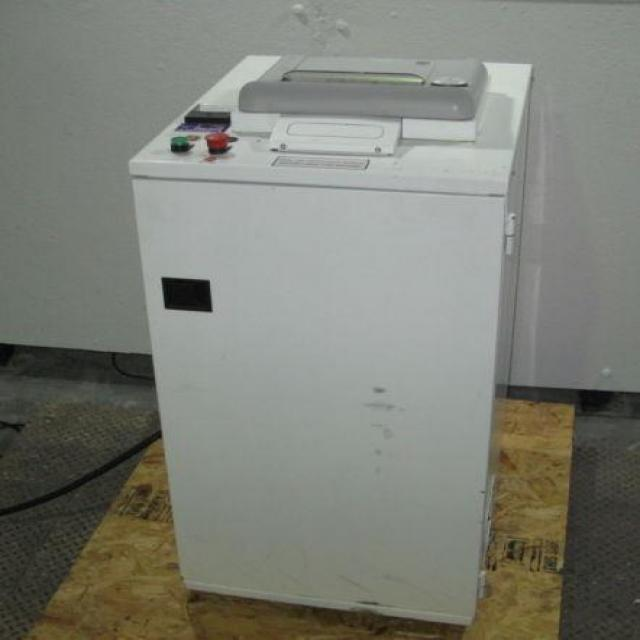palette: (128, 51, 548, 636)
